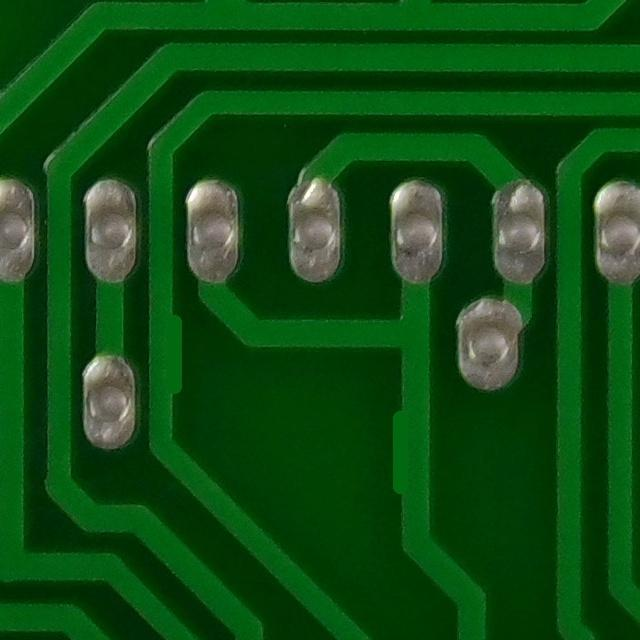spur: (376, 400, 444, 501), (138, 308, 207, 405)
